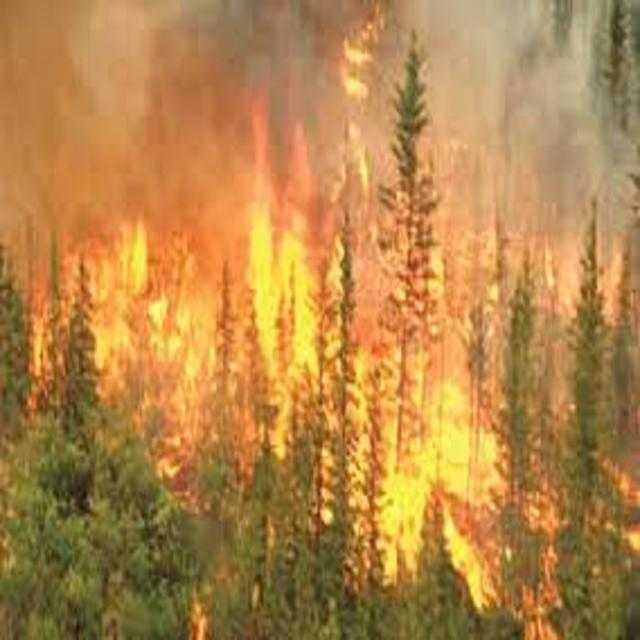Fire: (54, 198, 348, 404), (353, 204, 554, 378), (352, 381, 504, 606), (510, 432, 640, 640), (142, 409, 342, 534)
Smoke: (0, 4, 640, 202)
